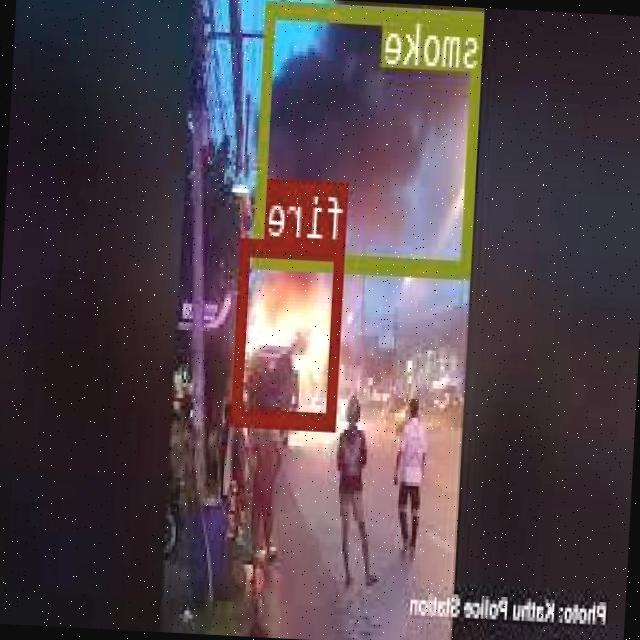fire: (234, 236, 346, 429)
smoke: (256, 0, 486, 277)
